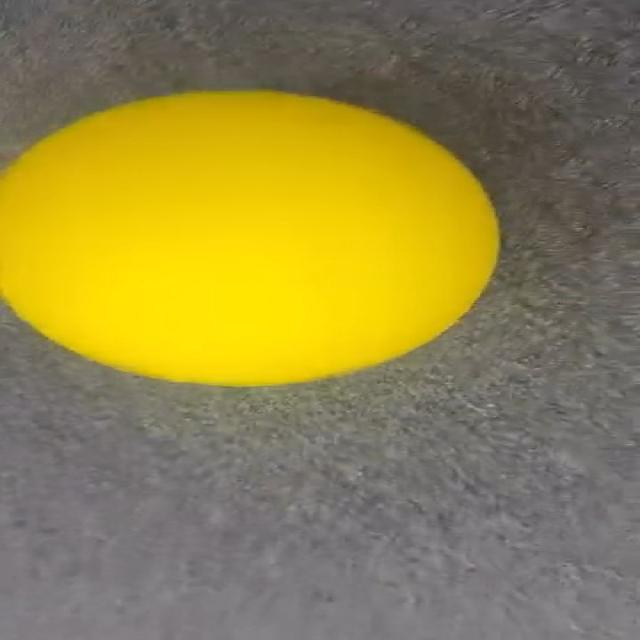Fuels: (0, 91, 498, 385)
